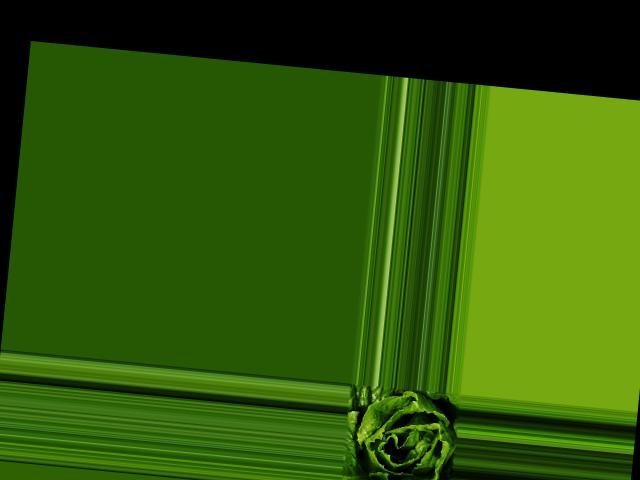lettuce: (339, 384, 459, 480)
